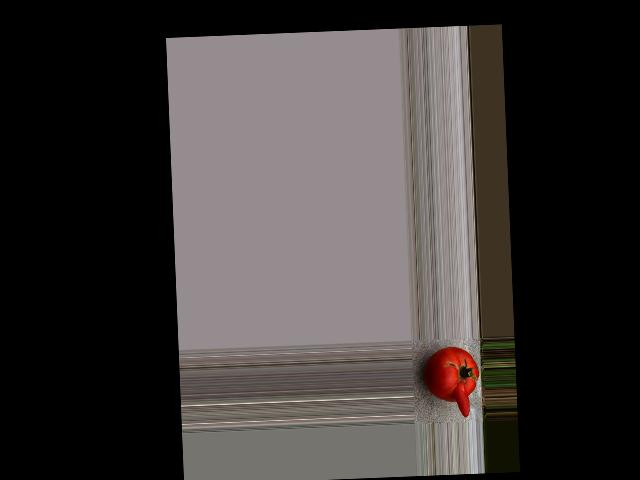tomato: (424, 345, 479, 402)
